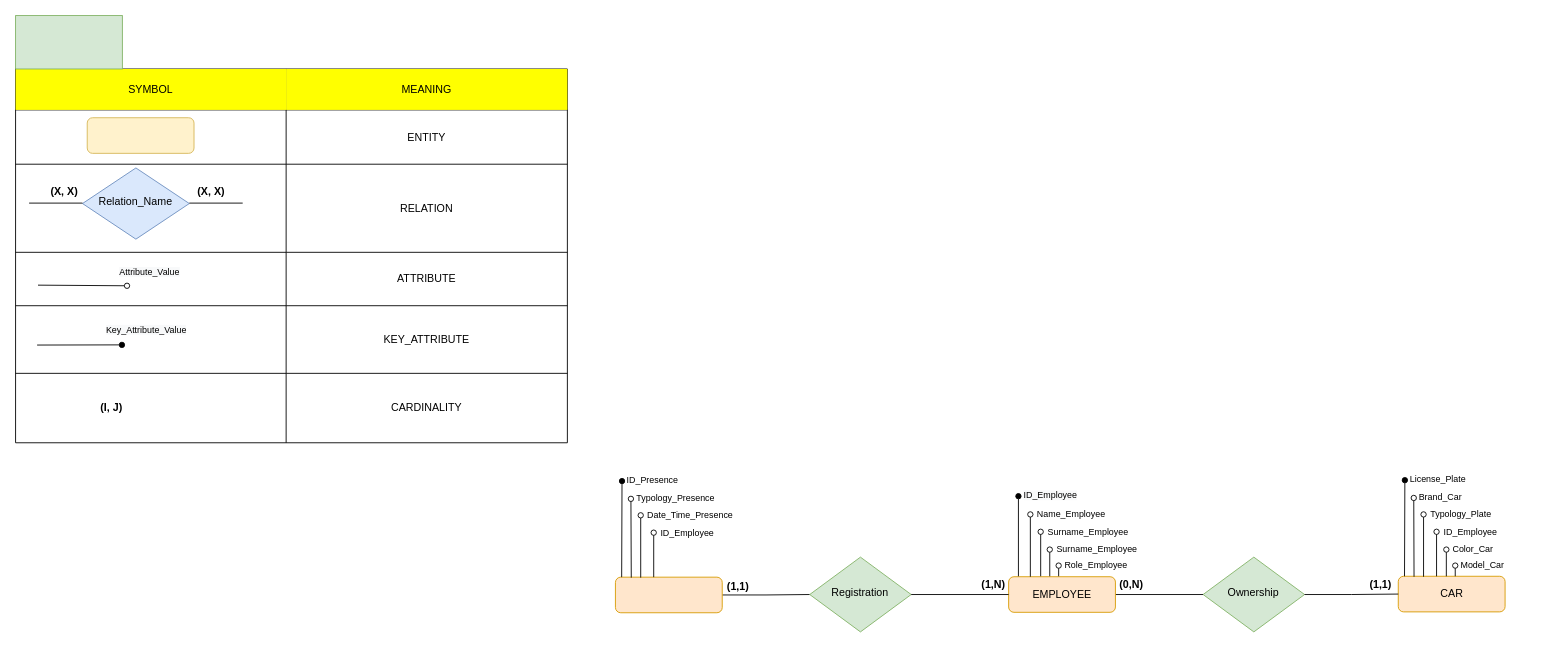
Some shapes in this 1555 by 648 pixel diagram are drawn without their labels. The shapes that lost their labels are listed below. From the top down, each one's centre as x and y in pixels, then its label:
the point at 68,42: LEGENDA
the point at 140,135: ENTITY_NAME
the point at 668,594: PRESENCE
